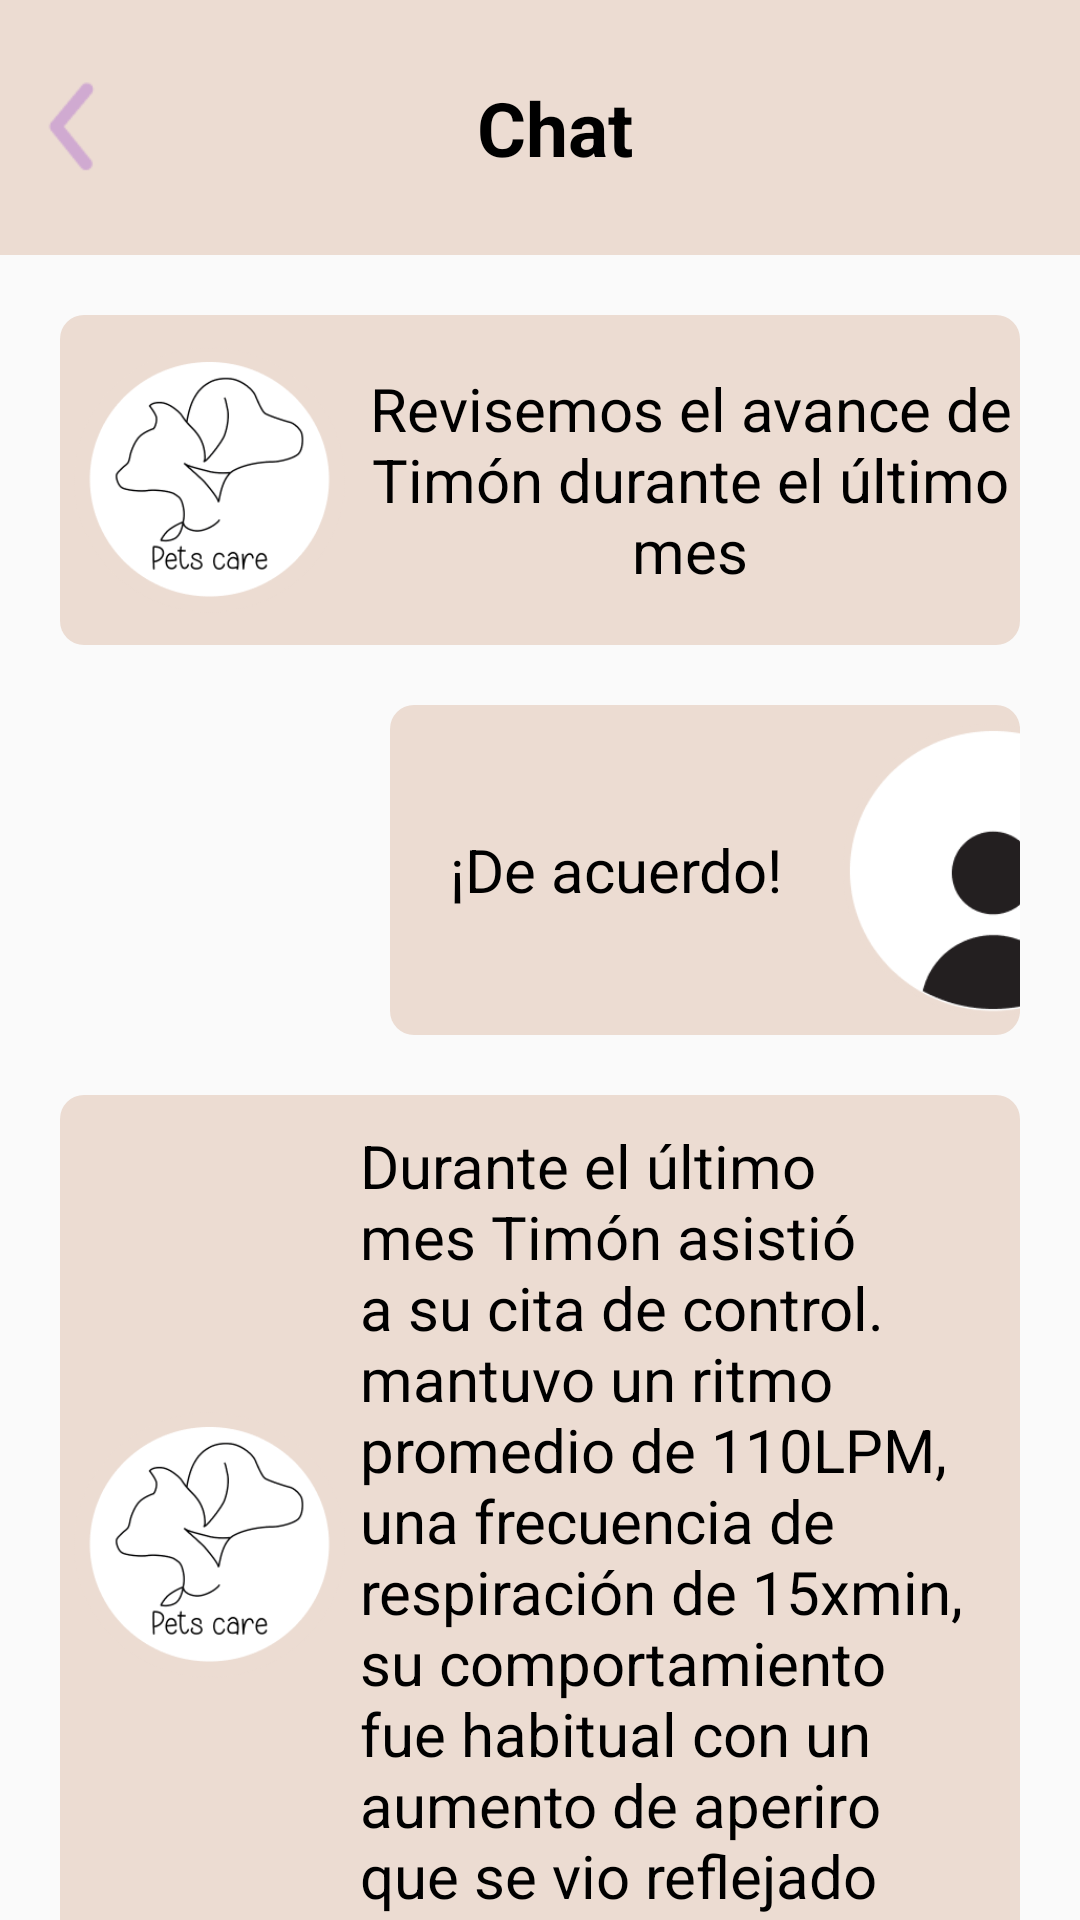

Icon bounding boxes for this 1080px×1920px phone screenshot, format (x1, y1, x2, y2):
back: (50, 83, 93, 170)
